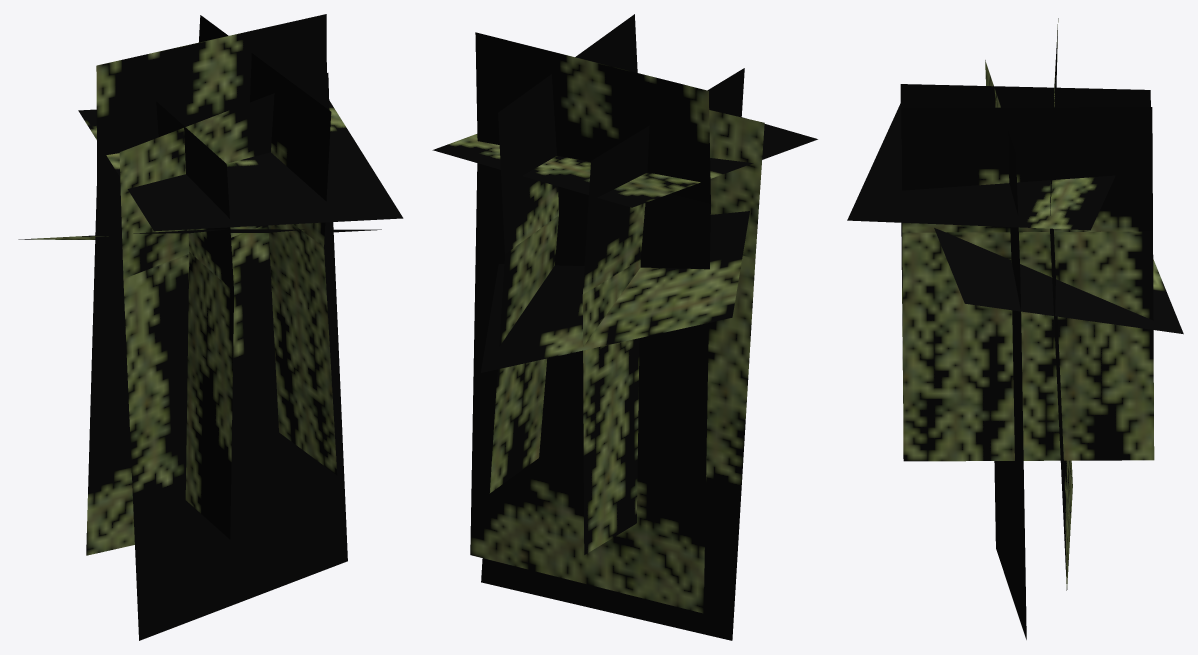
The model's file is willow_leaves_vertical_slab_2.obj.
3 views of the same model, side by side, from view 1: azimuth 30°, elevation 25°; view 2: azimuth 150°, elevation 25°; view 3: azimuth 270°, elevation 25° (orthographic). The views are drawn at different scales.
Visible parts, largest first — view 1: west, east, south, north, bottom, top; view 2: east, west, north, south, top, bottom; view 3: south, bottom, top, west, north, east.
Part boxes in pixels (x1=…): west: x1=119, y1=73, x2=347, y2=640; east: x1=86, y1=14, x2=326, y2=555; south: x1=199, y1=15, x2=337, y2=475; north: x1=156, y1=101, x2=233, y2=539; bottom: x1=78, y1=100, x2=403, y2=231; top: x1=18, y1=229, x2=381, y2=239; east: x1=470, y1=32, x2=710, y2=613; west: x1=481, y1=110, x2=764, y2=640; north: x1=582, y1=68, x2=744, y2=554; south: x1=489, y1=14, x2=637, y2=493; top: x1=481, y1=211, x2=749, y2=372; bottom: x1=432, y1=117, x2=817, y2=207; south: x1=901, y1=107, x2=1154, y2=461; bottom: x1=847, y1=103, x2=1115, y2=230; top: x1=934, y1=228, x2=1183, y2=334; west: x1=985, y1=60, x2=1026, y2=639; north: x1=900, y1=84, x2=1150, y2=403; east: x1=1050, y1=18, x2=1072, y2=590.
Size of the model in its own units: 1.99 by 3.5 by 2.01.
